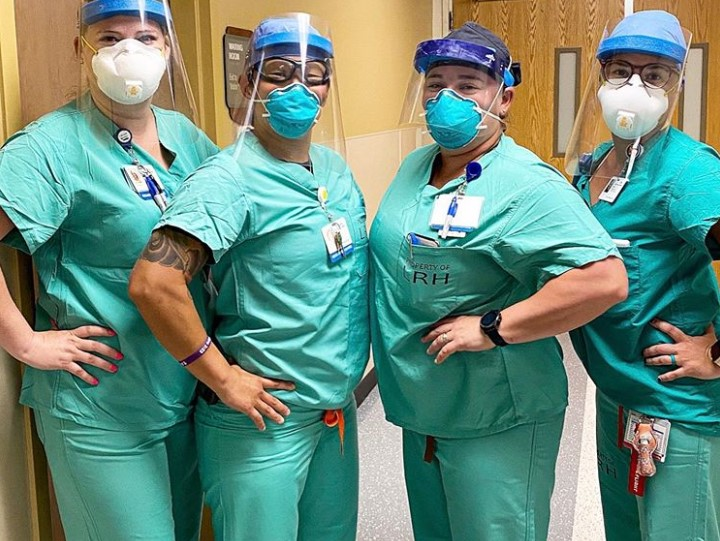face_with_mask: (407, 28, 517, 154), (590, 18, 693, 149), (240, 20, 338, 145), (72, 5, 176, 112)
